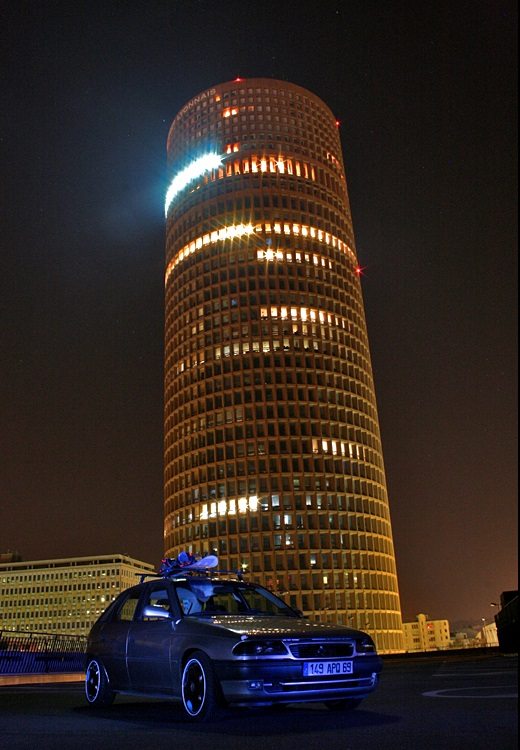car: (74, 549, 383, 727)
